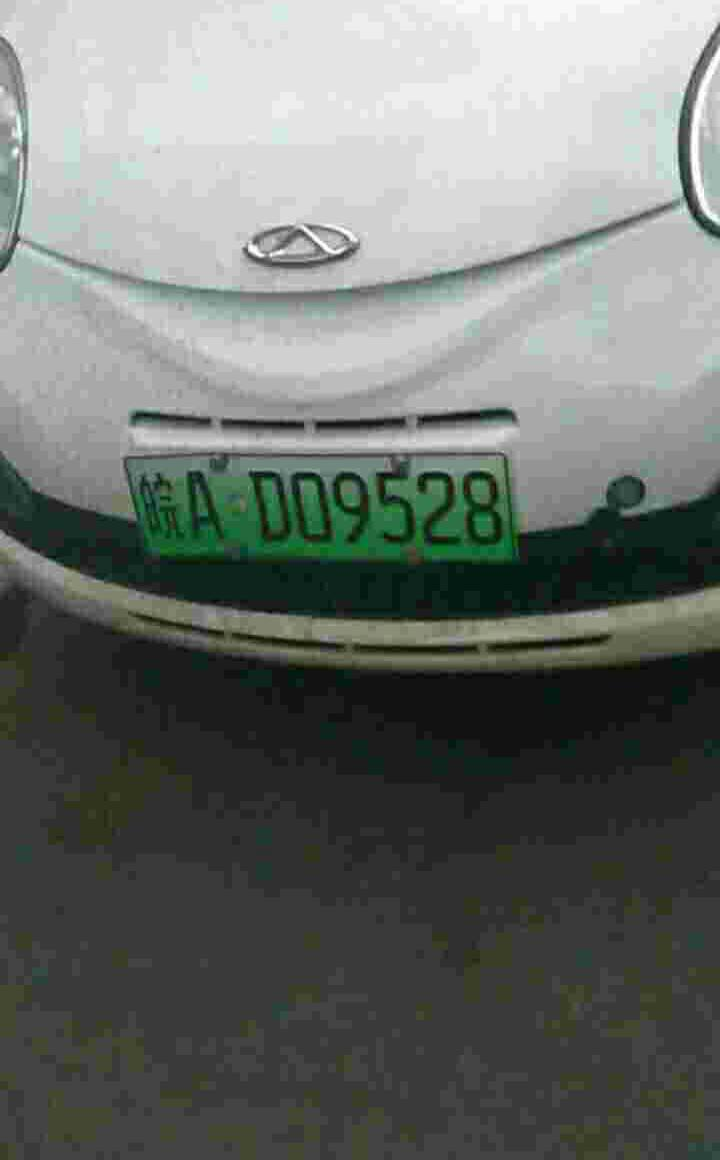car_id: (120, 453, 514, 561)
